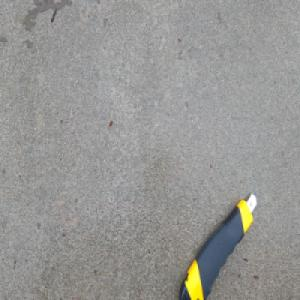Cutter: (176, 190, 257, 300)
